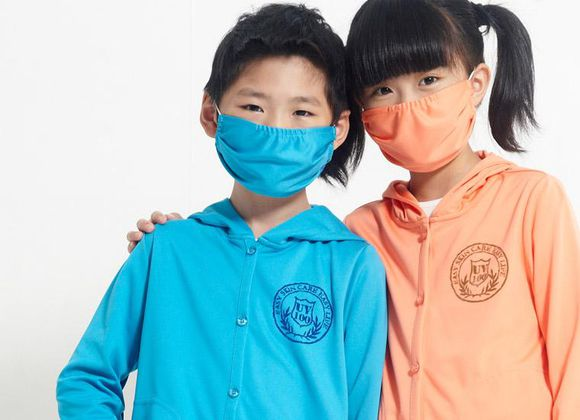face_mask: (219, 55, 335, 199), (365, 40, 469, 172)
